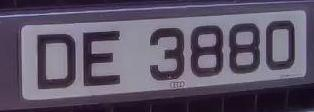0: (261, 15, 300, 77)
3: (140, 22, 190, 84)
8: (187, 18, 228, 78), (225, 14, 264, 77)
D: (31, 25, 83, 97)
E: (78, 24, 127, 94)
